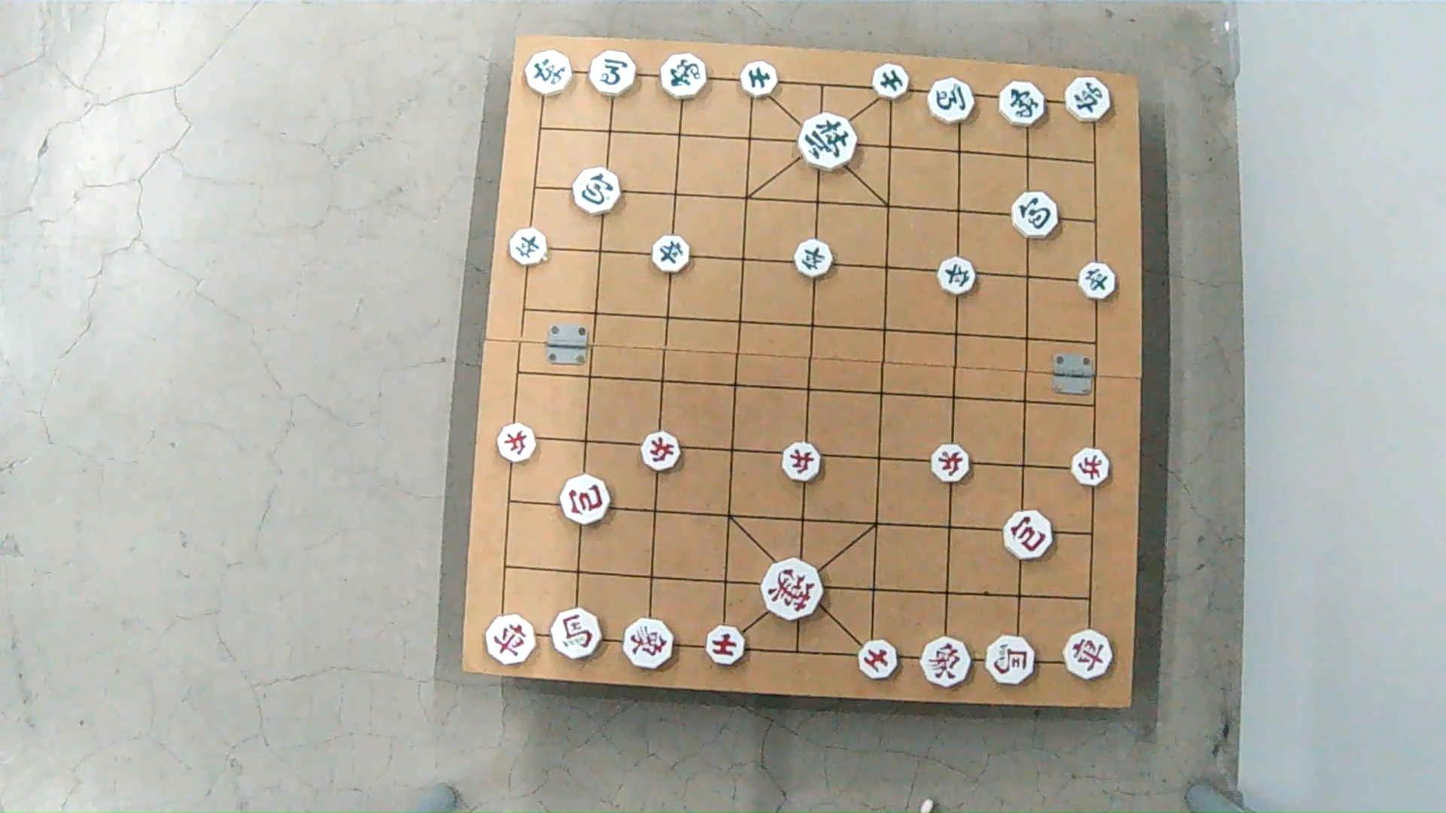cha_green: (525, 50, 575, 97), (1063, 78, 1110, 120)
cha_red: (484, 615, 535, 665), (1065, 630, 1114, 678)
jol_green: (794, 242, 834, 279), (938, 257, 978, 294), (1081, 263, 1119, 299), (650, 236, 689, 271), (506, 229, 546, 263)
jol_red: (494, 426, 535, 464), (639, 434, 682, 470), (782, 443, 822, 481), (933, 446, 973, 483), (1074, 449, 1113, 485)
ma_green: (588, 53, 636, 96), (929, 79, 977, 122)
ma_red: (548, 610, 602, 658), (984, 636, 1036, 683)
po_green: (1013, 193, 1061, 239), (572, 168, 621, 213)
po_red: (560, 475, 611, 523), (1005, 512, 1054, 559)
sa_green: (873, 66, 911, 101), (740, 62, 779, 96)
sa_red: (706, 625, 746, 665), (861, 641, 898, 678)
sang_green: (660, 52, 708, 100), (997, 80, 1047, 126)
sang_red: (622, 618, 676, 670), (920, 637, 969, 686)
wang_green: (794, 115, 856, 169)
wang_red: (760, 562, 825, 619)
